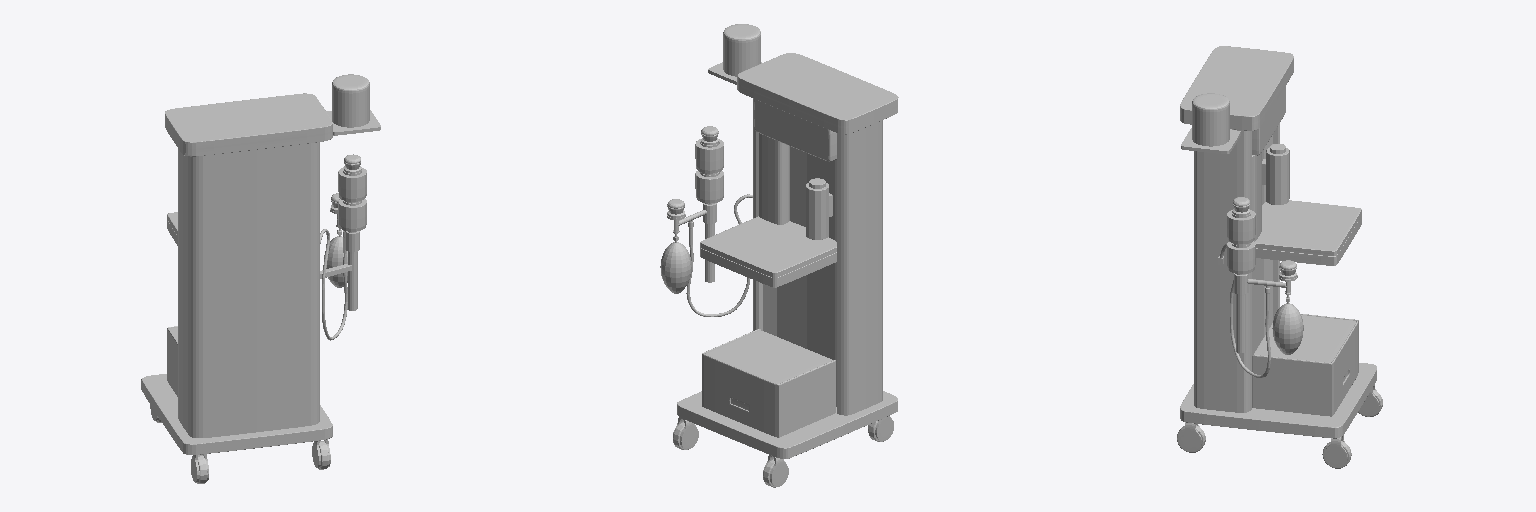
The model's file is AnLabBlend.obj.
3 views of the same model, side by side, from view 1: azimuth 30°, elevation 25°; view 2: azimuth 150°, elevation 25°; view 3: azimuth 270°, elevation 25° (orthographic).
Visible parts, largest first — view 1: OT_Anesthesia_Machine_OT_Anesthesia_Machine-geom; view 2: OT_Anesthesia_Machine_OT_Anesthesia_Machine-geom; view 3: OT_Anesthesia_Machine_OT_Anesthesia_Machine-geom.
Boxes of the visible parts, box(x1,y1,x2,y2) form: OT_Anesthesia_Machine_OT_Anesthesia_Machine-geom: box(141, 74, 380, 483); OT_Anesthesia_Machine_OT_Anesthesia_Machine-geom: box(660, 24, 898, 487); OT_Anesthesia_Machine_OT_Anesthesia_Machine-geom: box(1177, 46, 1382, 468).
Bounding box in the file's own units: 0.8292 × 1.45 × 0.733.